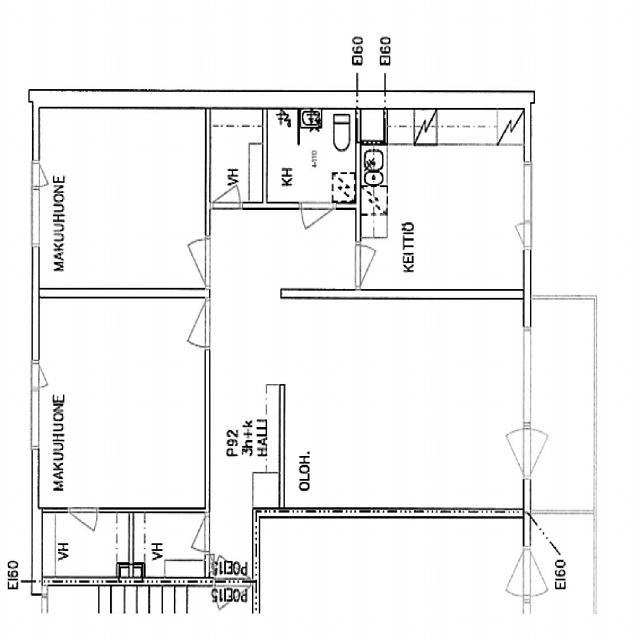door: (524, 426, 572, 478), (484, 426, 532, 478), (213, 530, 251, 589), (213, 579, 251, 637), (168, 236, 211, 284), (169, 302, 211, 348), (355, 240, 394, 284), (302, 202, 333, 250), (212, 163, 243, 210), (67, 508, 98, 554), (177, 516, 211, 552)
